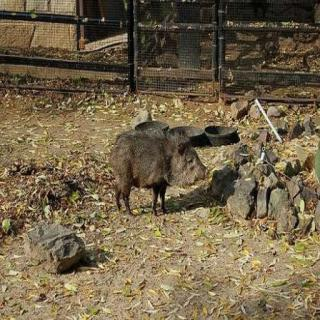Pig: (90, 108, 214, 224)
